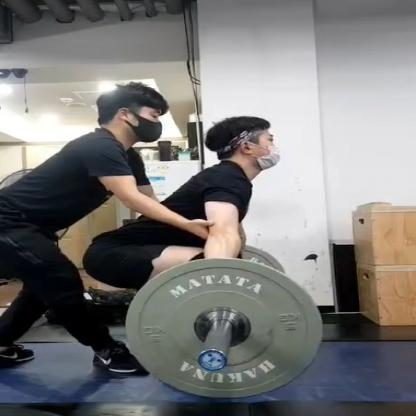Barbell: (122, 252, 330, 401)
